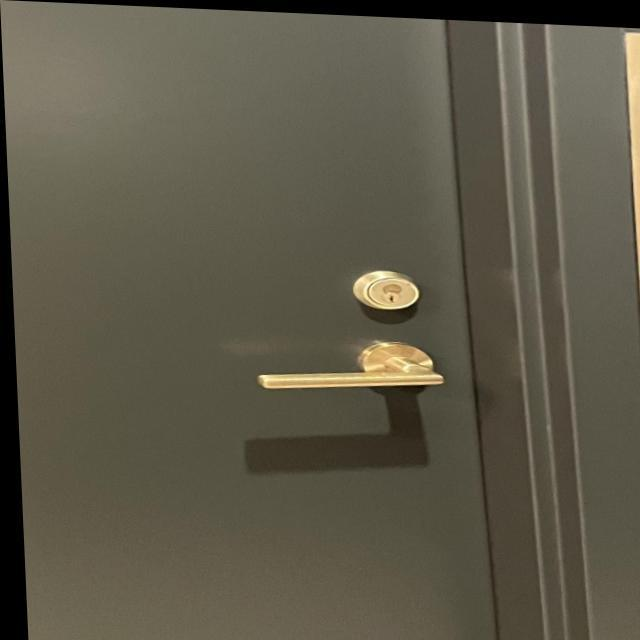door_handle: (237, 324, 465, 406)
